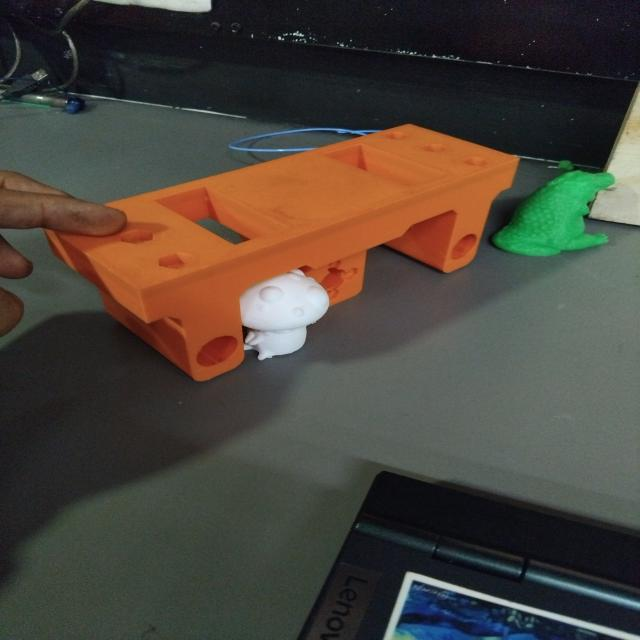Hongo: (231, 269, 329, 363)
